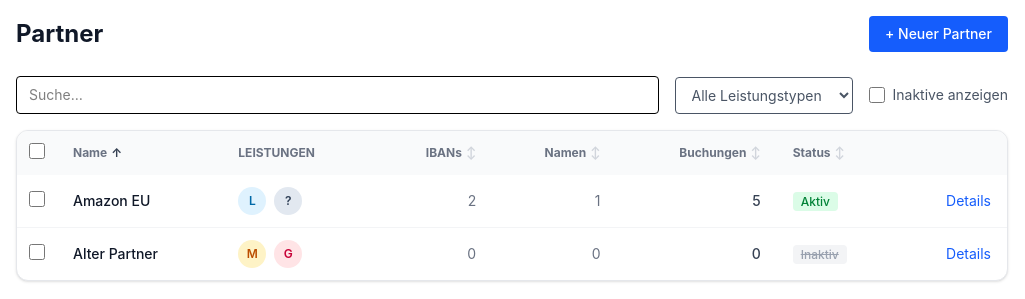
it: PartnersPage › searches across the full dataset via backend query params
Expected: the text "Amazon EU" is shown, top-left (57, 175), bottom-right (222, 228)
Type "Zebra" into the field with placeholder "Suche…" at (337, 95), box top-left (16, 76), bottom-right (658, 114)
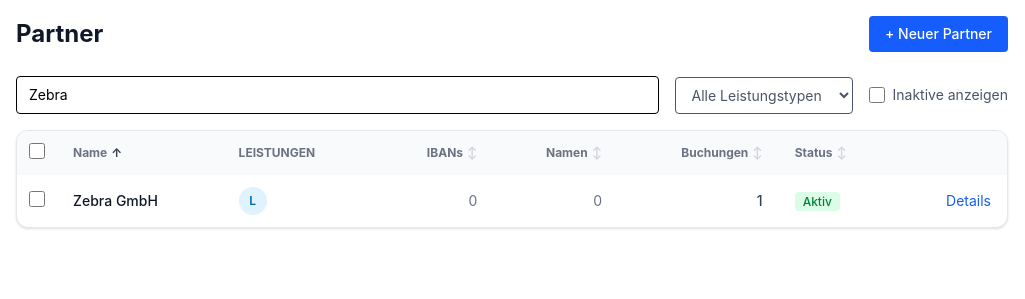
Now the text "Zebra GmbH" is shown, box top-left (57, 175), bottom-right (223, 227)
Now the text "Amazon EU" is gone
